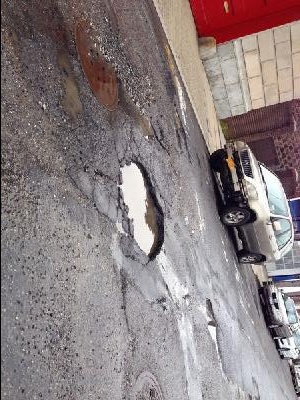pothole: (115, 160, 166, 264), (55, 50, 86, 123), (171, 101, 192, 161), (202, 297, 219, 345)
